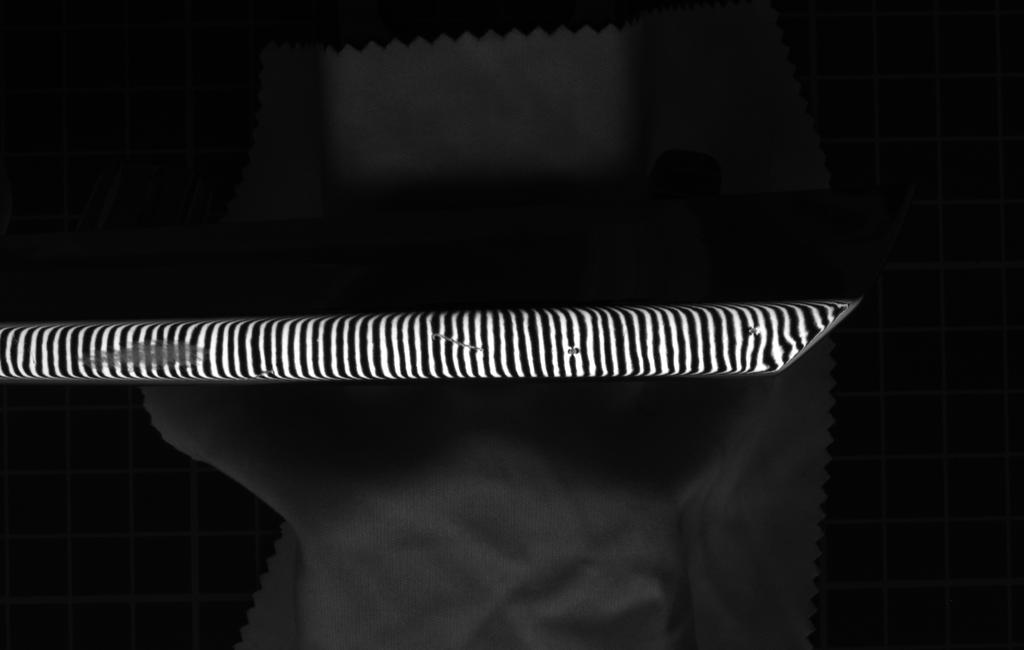Pierced: (744, 321, 769, 343), (559, 343, 589, 360)
Pitting: (58, 336, 220, 375)
Scratch: (423, 328, 490, 359)
